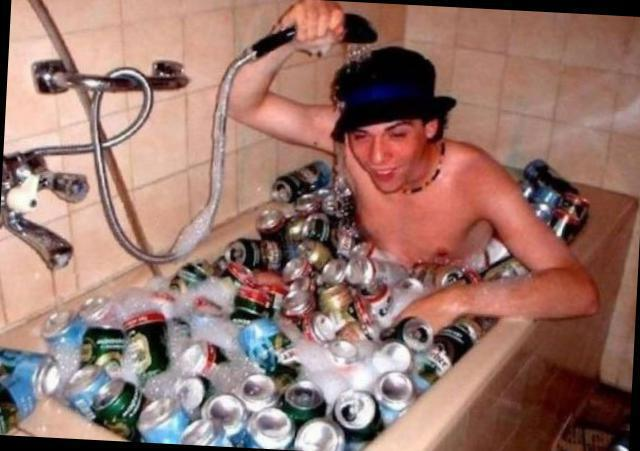Drunk: (358, 121, 422, 186)
